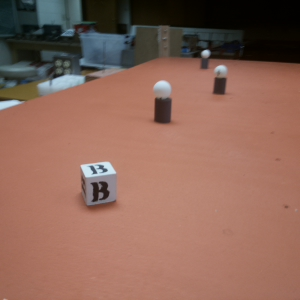blockB: (79, 161, 119, 206)
corner: (157, 24, 170, 58)
obstacle: (154, 80, 172, 124), (212, 65, 229, 95), (200, 49, 211, 69)
